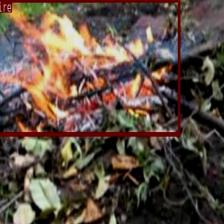fire: (0, 0, 180, 136)
